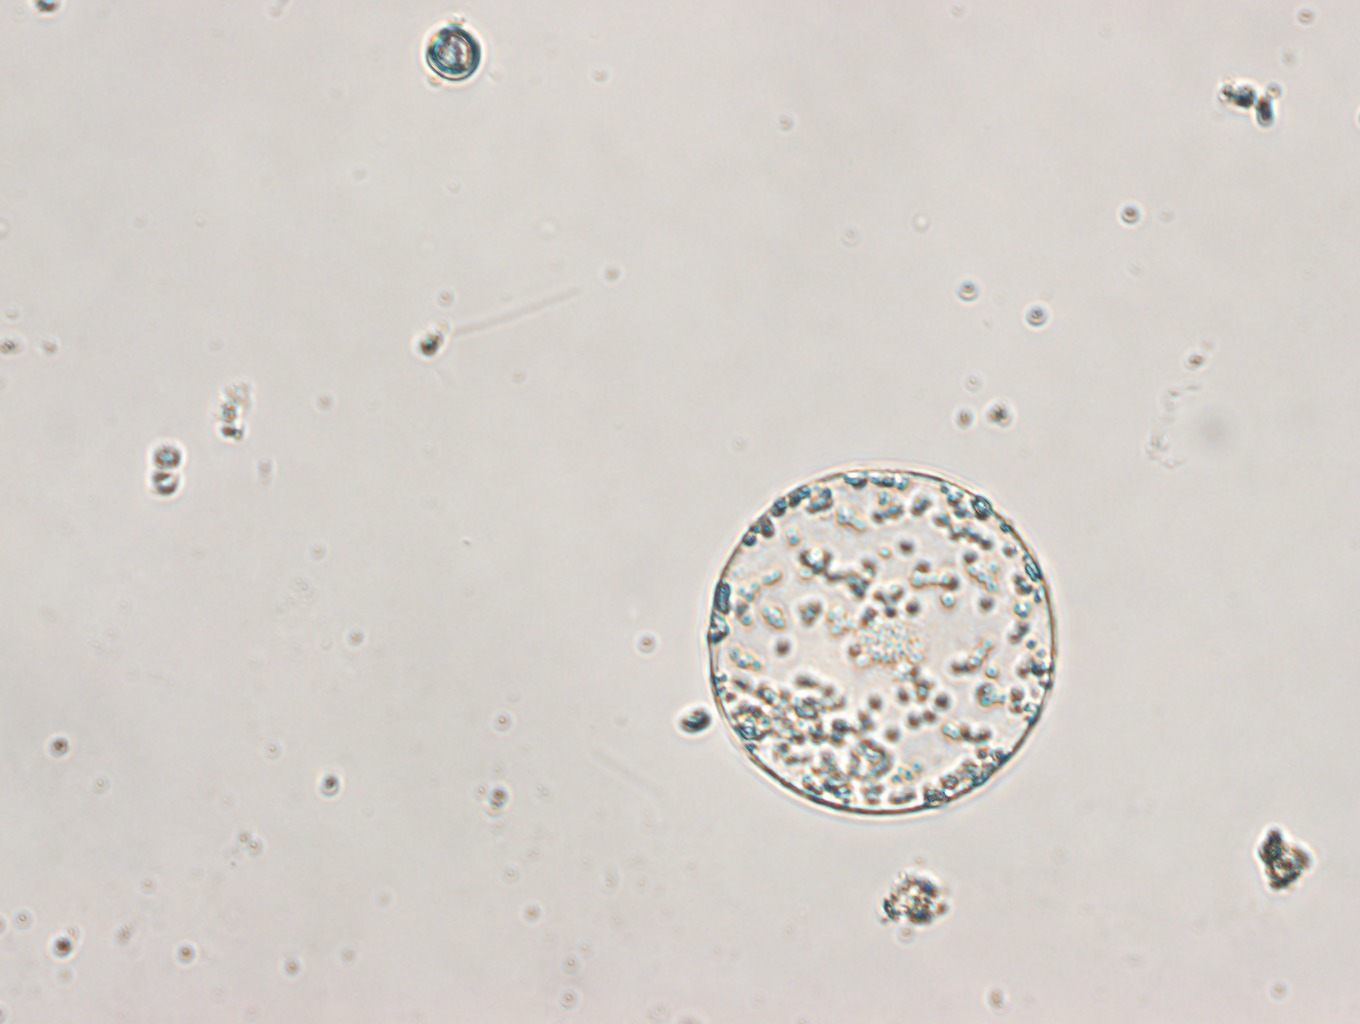coscinodiscus: (704, 464, 1057, 816)
